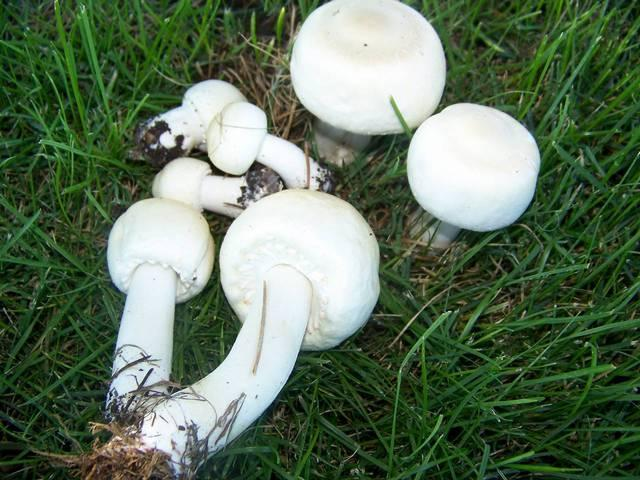Non-edible Mushroom: (141, 80, 401, 477), (288, 0, 447, 167), (103, 196, 215, 423), (404, 101, 541, 248)
